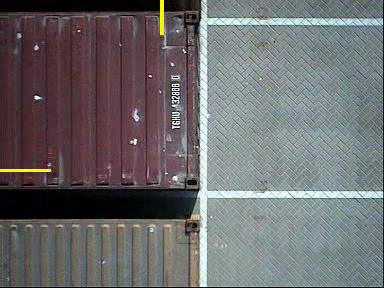groundmarker_2: (193, 156, 250, 237)
